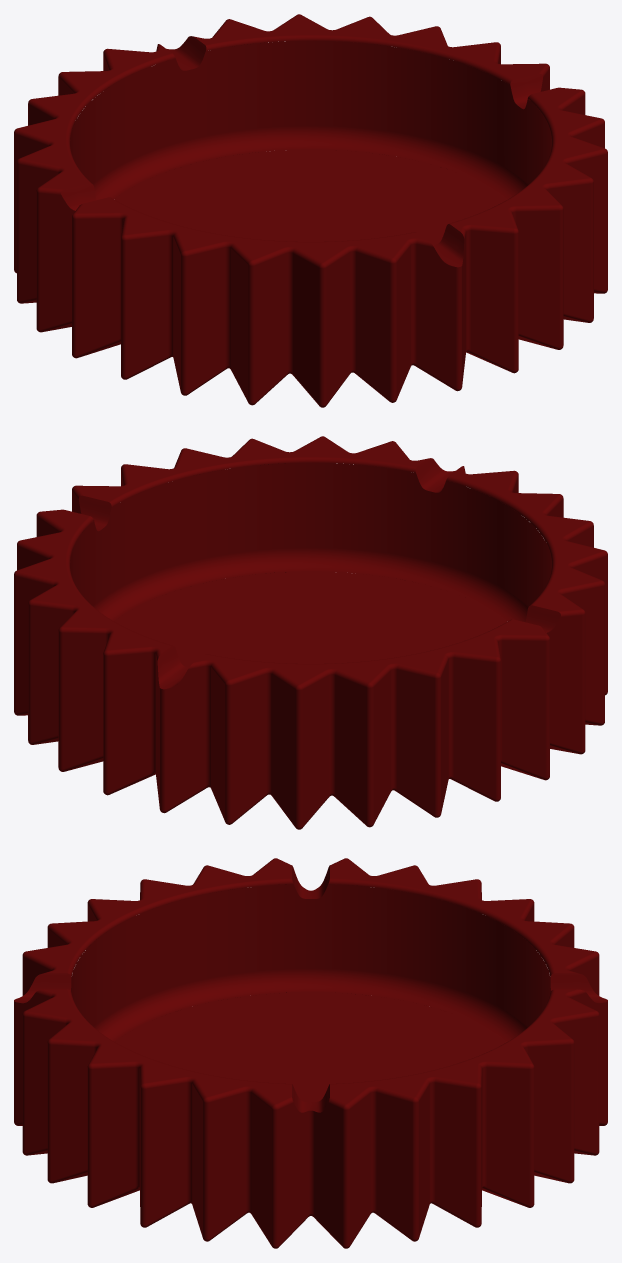
The model's file is ashtray-lines.glb.
3 renders of one model, top to bottom at view 1: azimuth 30°, elevation 25°; view 2: azimuth 150°, elevation 25°; view 3: azimuth 270°, elevation 25°, orthographic.
Bounding box in the file's own units: 0.1326 × 0.0358 × 0.1335.
